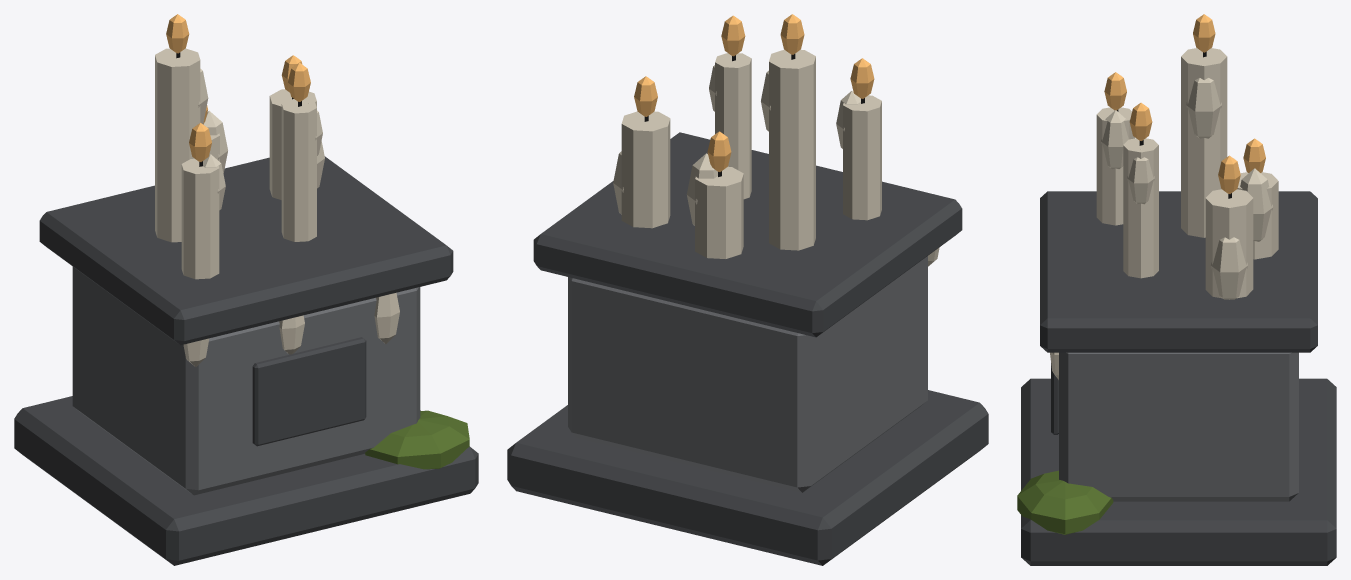
The model's file is candles.glb.
3 renders of one model, left to right at view 1: azimuth 30°, elevation 25°; view 2: azimuth 150°, elevation 25°; view 3: azimuth 270°, elevation 25°, orthographic. The views are drawn at different scales.
Visible parts, largest first — view 1: Candles, CandleFlame; view 2: Candles, CandleFlame; view 3: Candles, CandleFlame.
Part boxes in pixels (x1,y1,x2,y2): Candles: [14, 48, 478, 565]; CandleFlame: [166, 14, 310, 161]; Candles: [507, 49, 988, 565]; CandleFlame: [634, 14, 874, 171]; Candles: [1017, 48, 1336, 565]; CandleFlame: [1104, 14, 1265, 193].
Size of the model in its own units: 0.5713 by 0.7942 by 0.5061.
